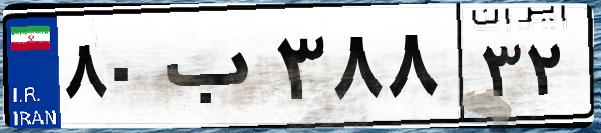0: (110, 28, 158, 98)
2: (525, 38, 570, 115)
3: (270, 28, 330, 110), (475, 38, 525, 113)
8: (385, 28, 445, 110), (330, 28, 385, 110), (57, 26, 110, 100)
ب: (158, 20, 270, 120)
